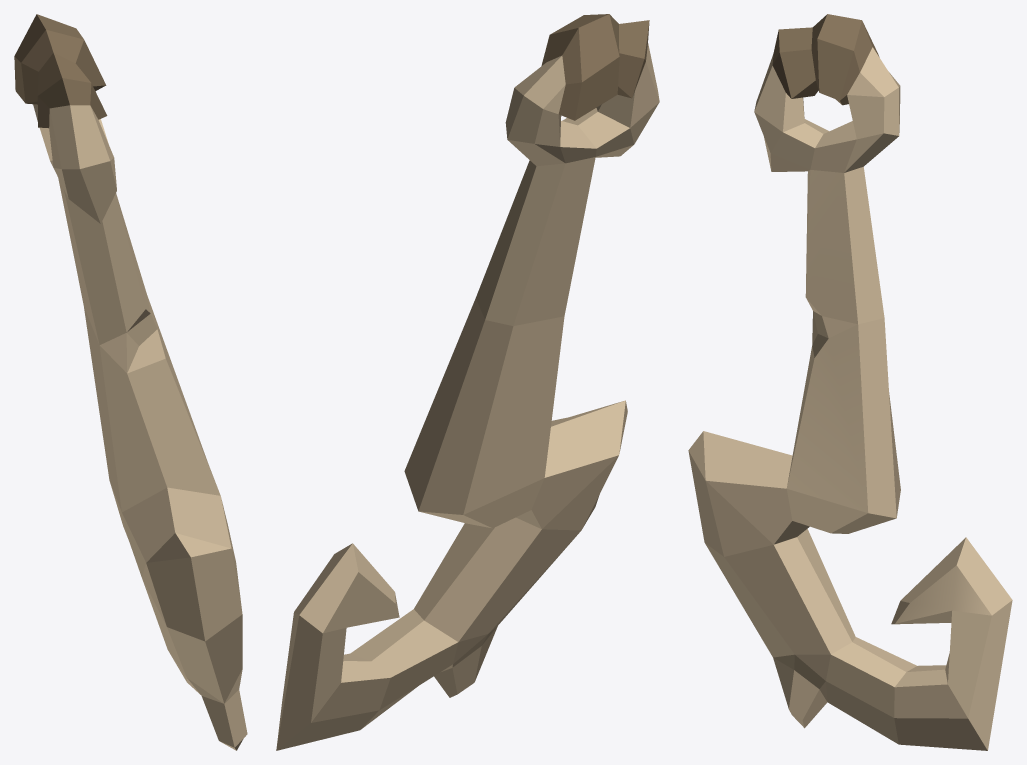
Rendered from SM_Chr_Attach_Hook_02.fbx.
The picture shows the model from 3 angles, left to right: view 1: azimuth 30°, elevation 25°; view 2: azimuth 150°, elevation 25°; view 3: azimuth 270°, elevation 25°; orthographic projection. The views are drawn at different scales.
Visible parts, largest first — view 1: SM_Chr_Attach_Hook_02; view 2: SM_Chr_Attach_Hook_02; view 3: SM_Chr_Attach_Hook_02.
Boxes of the visible parts, <box> form: SM_Chr_Attach_Hook_02: <box>14,14,247,750</box>; SM_Chr_Attach_Hook_02: <box>276,14,659,750</box>; SM_Chr_Attach_Hook_02: <box>688,14,1012,750</box>.
Bounding box in the file's own units: 16.83 × 44.21 × 20.23.
